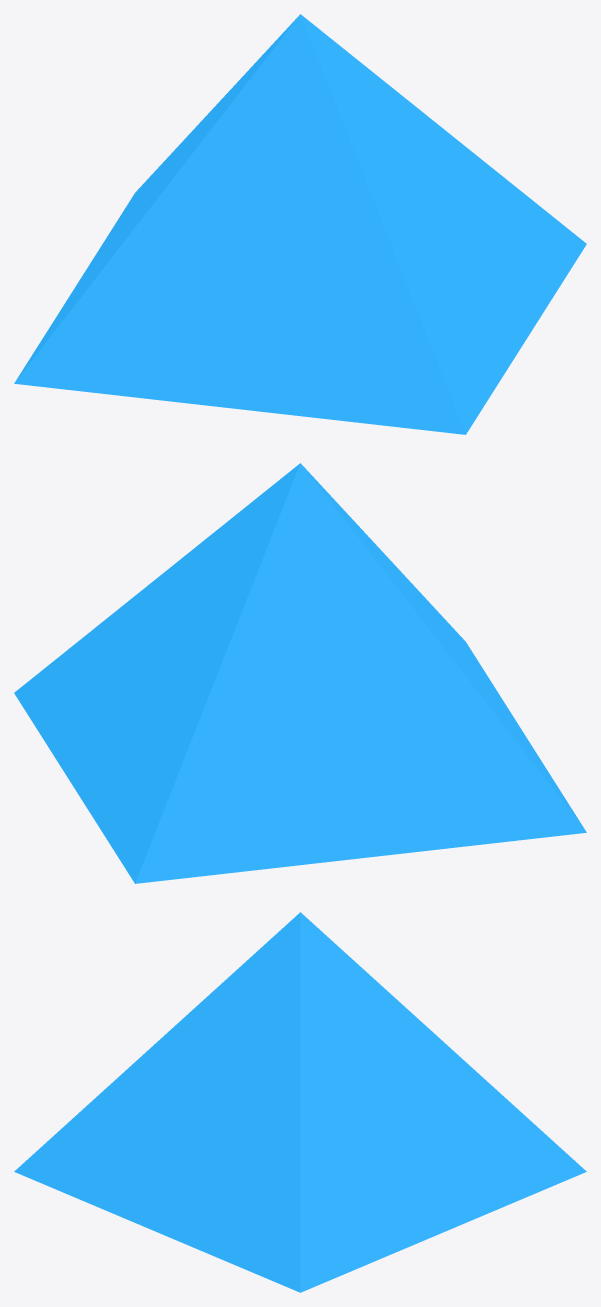
File: pyramidEvent.glb
3 views of the same model, one above another, from view 1: azimuth 30°, elevation 25°; view 2: azimuth 150°, elevation 25°; view 3: azimuth 270°, elevation 25° (orthographic). The views are drawn at different scales.
Visible parts, largest first — view 1: Cone; view 2: Cone; view 3: Cone.
Part boxes in pixels (x1=…): Cone: x1=14, y1=14, x2=586, y2=434; Cone: x1=14, y1=463, x2=586, y2=883; Cone: x1=14, y1=912, x2=586, y2=1292.
Size of the model in its own units: 2.66 by 1.33 by 2.66.
